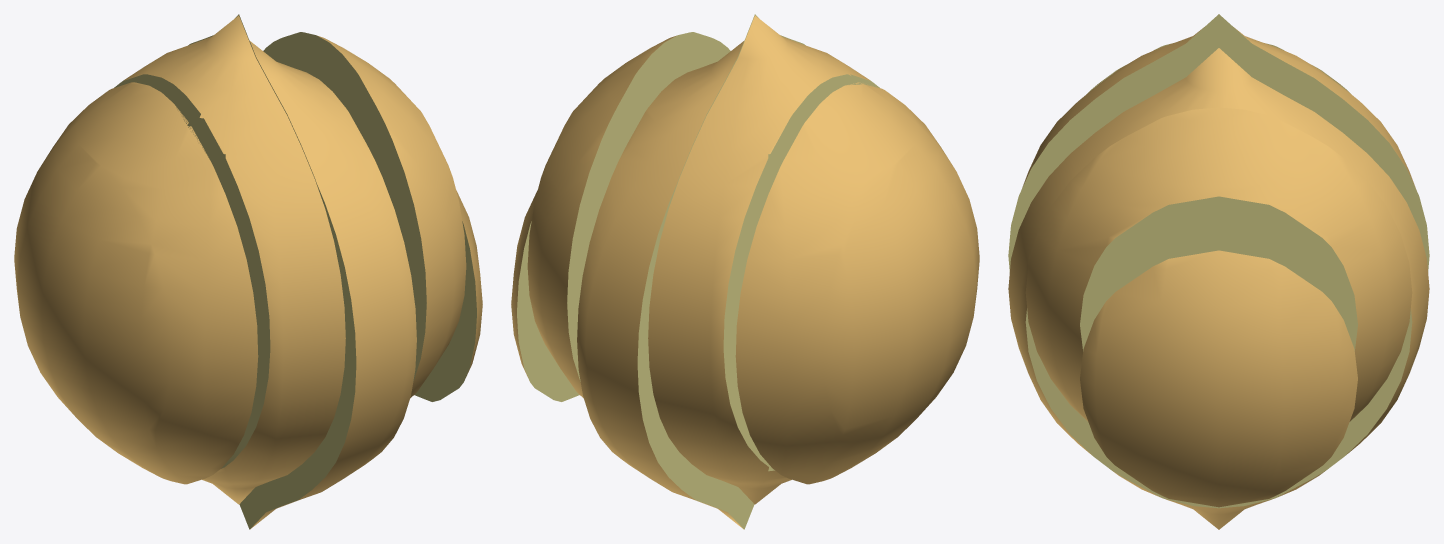
File: 5of6Onion.fbx
The picture shows the model from 3 angles, left to right: view 1: azimuth 30°, elevation 25°; view 2: azimuth 150°, elevation 25°; view 3: azimuth 270°, elevation 25°; orthographic projection.
Parts seen in each view (by area): view 1: pSphere1; view 2: pSphere1; view 3: pSphere1.
Boxes of the visible parts, x1,y1,x2,y2 form: pSphere1: (14, 14, 482, 529); pSphere1: (511, 14, 979, 529); pSphere1: (1008, 14, 1429, 529).
Size of the model in its own units: 2.24 by 2.68 by 2.
